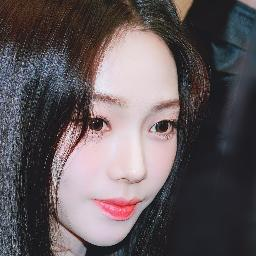face: (56, 40, 176, 238)
